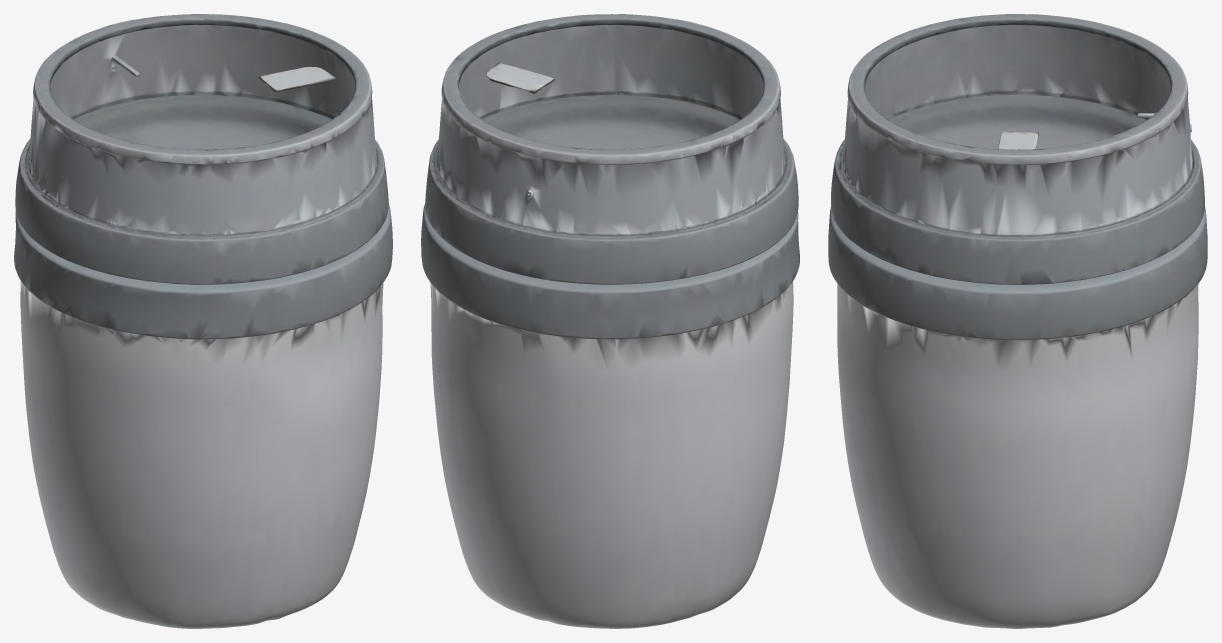
3 views of the same model, side by side, from view 1: azimuth 30°, elevation 25°; view 2: azimuth 150°, elevation 25°; view 3: azimuth 270°, elevation 25° (orthographic).
Parts seen in each view (by area): view 1: tripo_node_bf59212c-be35-4952-967e-acfc9cf19d91; view 2: tripo_node_bf59212c-be35-4952-967e-acfc9cf19d91; view 3: tripo_node_bf59212c-be35-4952-967e-acfc9cf19d91.
Part boxes in pixels (box(x1,y1,x2,y2)): tripo_node_bf59212c-be35-4952-967e-acfc9cf19d91: box(14, 14, 392, 628); tripo_node_bf59212c-be35-4952-967e-acfc9cf19d91: box(421, 14, 799, 628); tripo_node_bf59212c-be35-4952-967e-acfc9cf19d91: box(828, 14, 1207, 628).
Bounding box in the file's own units: 0.7039 × 0.9999 × 0.7039.
1 material, 1 textured.
